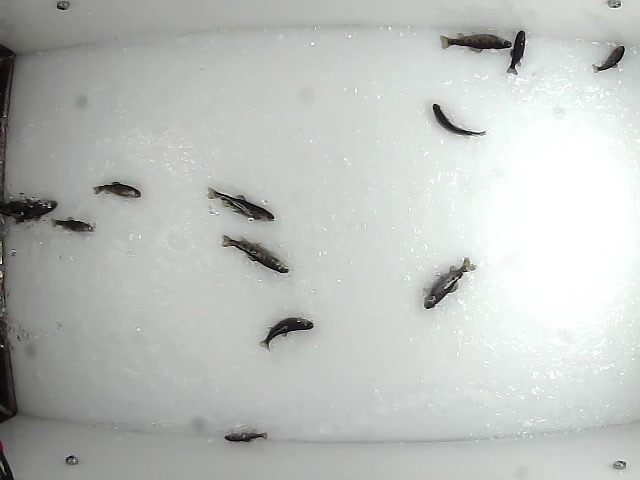fish: (419, 256, 478, 312), (219, 232, 292, 275), (205, 185, 278, 222), (258, 315, 315, 354), (431, 103, 488, 139), (435, 31, 514, 54), (2, 196, 59, 225), (504, 29, 529, 78), (90, 180, 143, 202), (589, 45, 627, 75), (45, 216, 96, 236), (222, 428, 271, 444)
